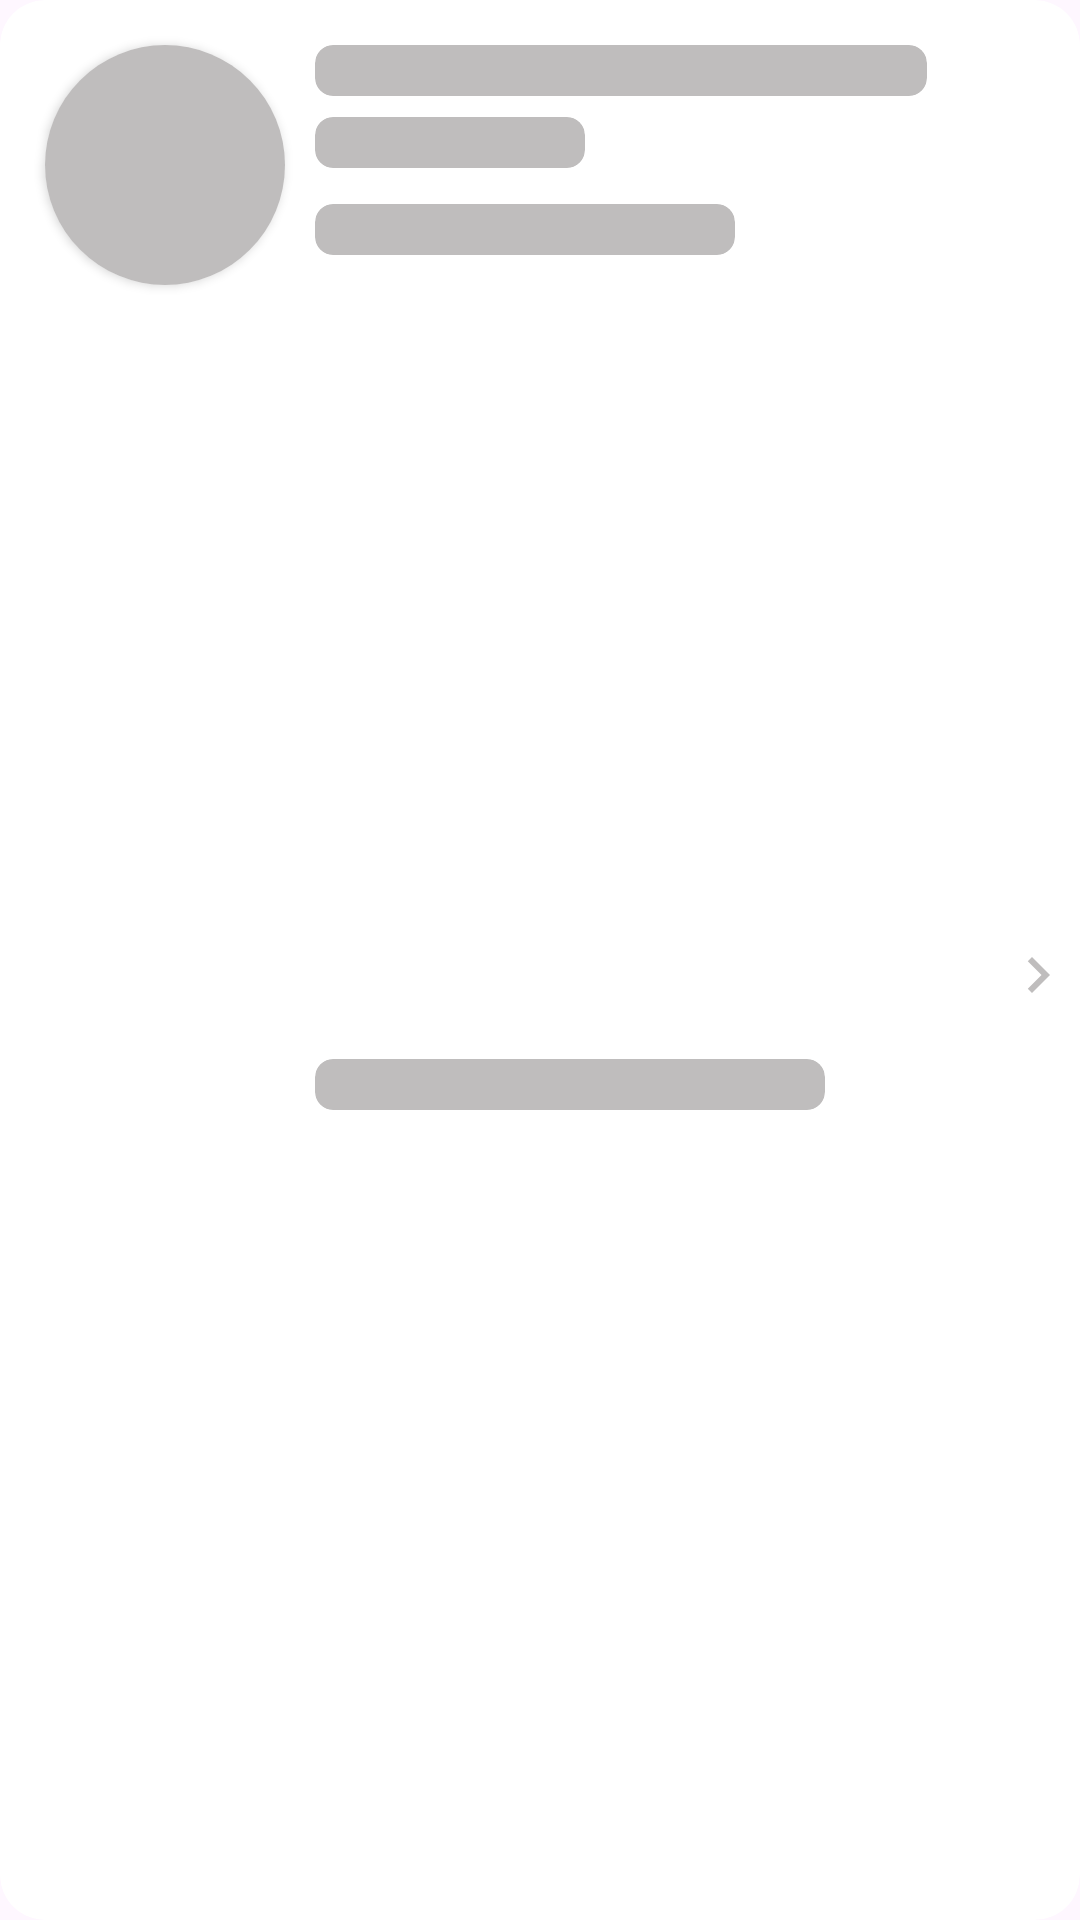

Screen size 1080 x 1920. Icon name, then its box in pixels as [left=x1, top=y1, right=x2, bottom=y2]:
next shimmer: [left=1028, top=957, right=1050, bottom=993]
